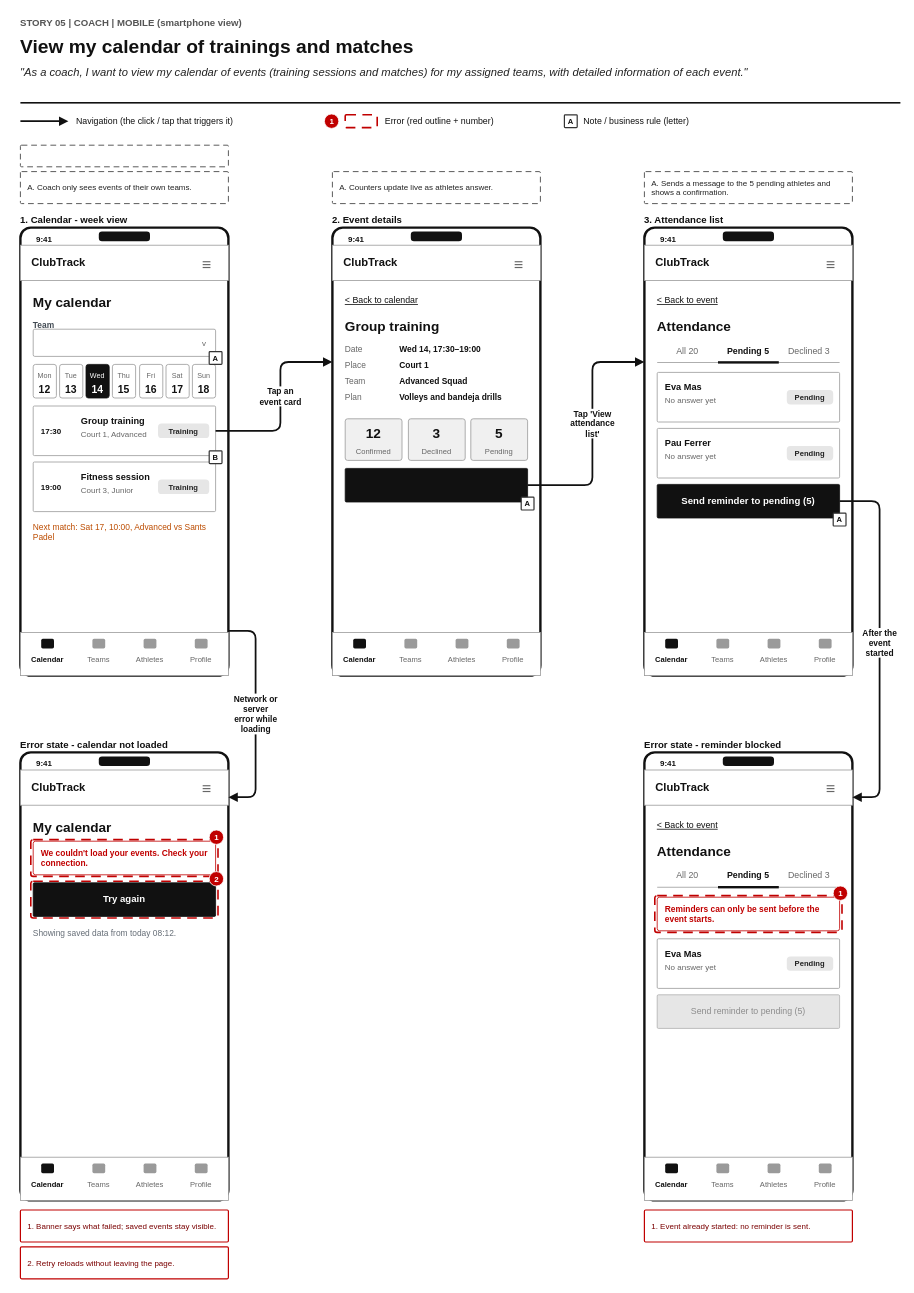
This 914x1293 diagram has some shape labels left out. Here are the shapes that lost their labels. From the top down, the box of each, then its label:
(20, 144, 228, 167): B. Whole card is clickable.
(32, 328, 216, 356): All my teams
(344, 468, 528, 502): View attendance list
